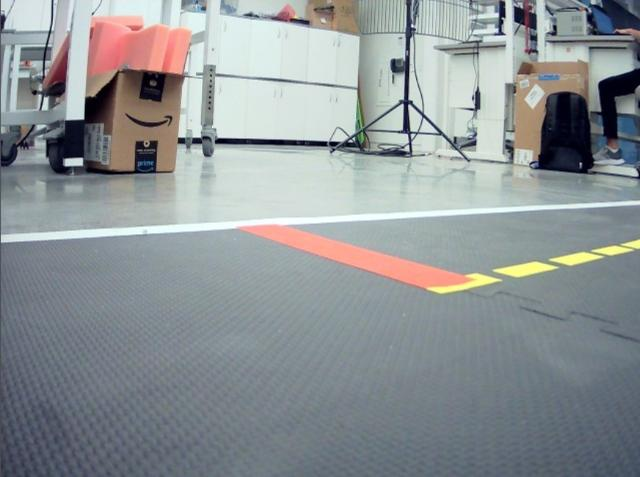redline: (235, 224, 474, 289)
whiteline: (3, 201, 640, 244)
yellowline: (426, 238, 640, 295)
